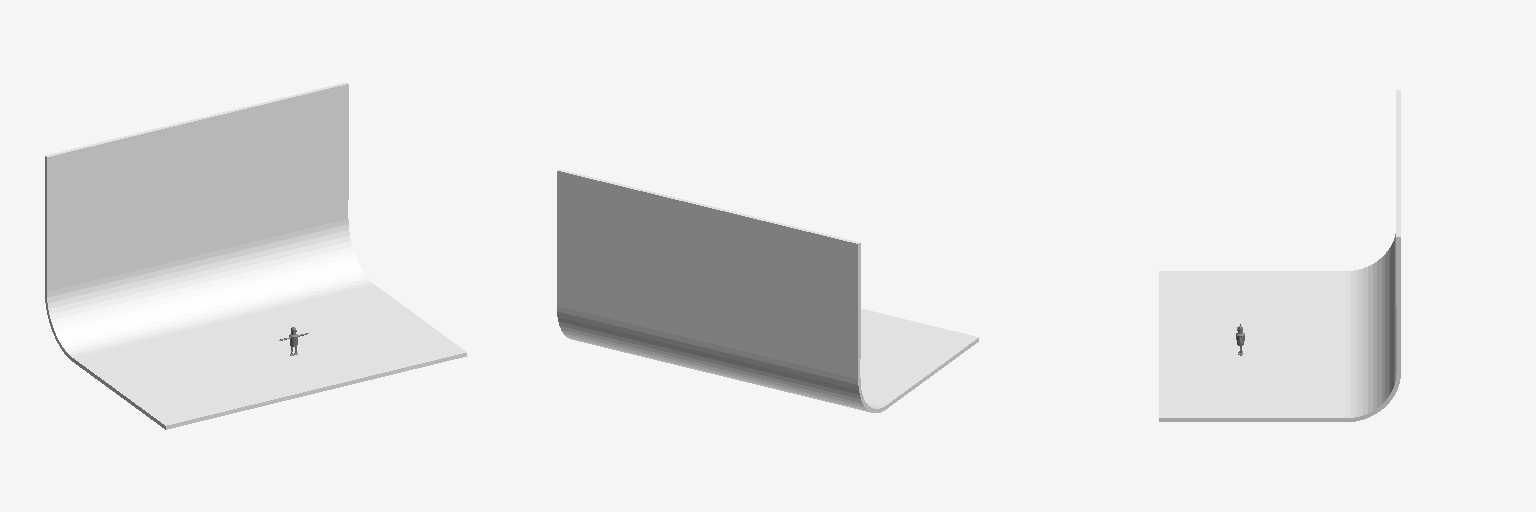
Rendered from Bender.obj.
3 renders of one model, left to right at view 1: azimuth 30°, elevation 25°; view 2: azimuth 150°, elevation 25°; view 3: azimuth 270°, elevation 25°, orthographic.
Visible parts, largest first — view 1: Line01; view 2: Line01; view 3: Line01.
Part boxes in pixels (left/top/right/bottom): Line01: left=45, top=82, right=466, bottom=429; Line01: left=557, top=169, right=978, bottom=412; Line01: left=1159, top=90, right=1400, bottom=421.
Size of the model in its own units: 171 by 101 by 119.